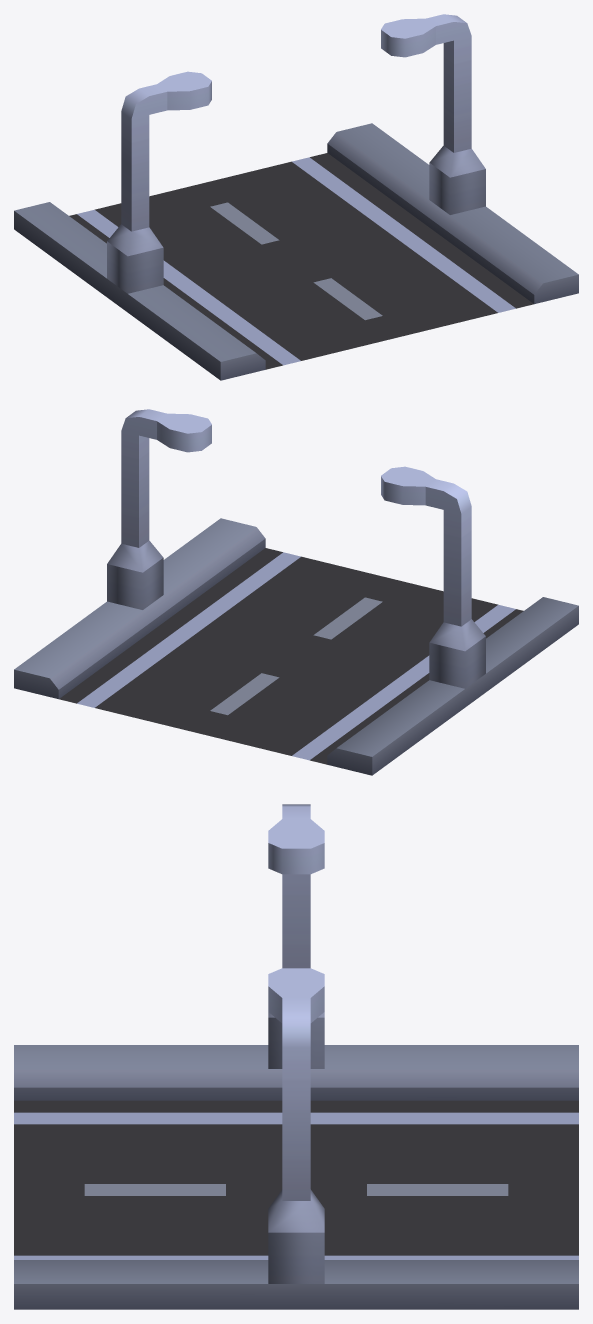
File: kenney_road_lightposts.glb
3 renders of one model, top to bottom at view 1: azimuth 30°, elevation 25°; view 2: azimuth 150°, elevation 25°; view 3: azimuth 270°, elevation 25°, orthographic. The views are drawn at different scales.
Visible parts, largest first — view 1: road-straight-lightposts; view 2: road-straight-lightposts; view 3: road-straight-lightposts.
Boxes of the visible parts, x1,y1,x2,y2 form: road-straight-lightposts: (14,14,578,380); road-straight-lightposts: (14,409,578,775); road-straight-lightposts: (14,804,578,1309).
Bounding box in the file's own units: 1 × 0.55 × 1.
Materials: 1 (1 with a texture image).
